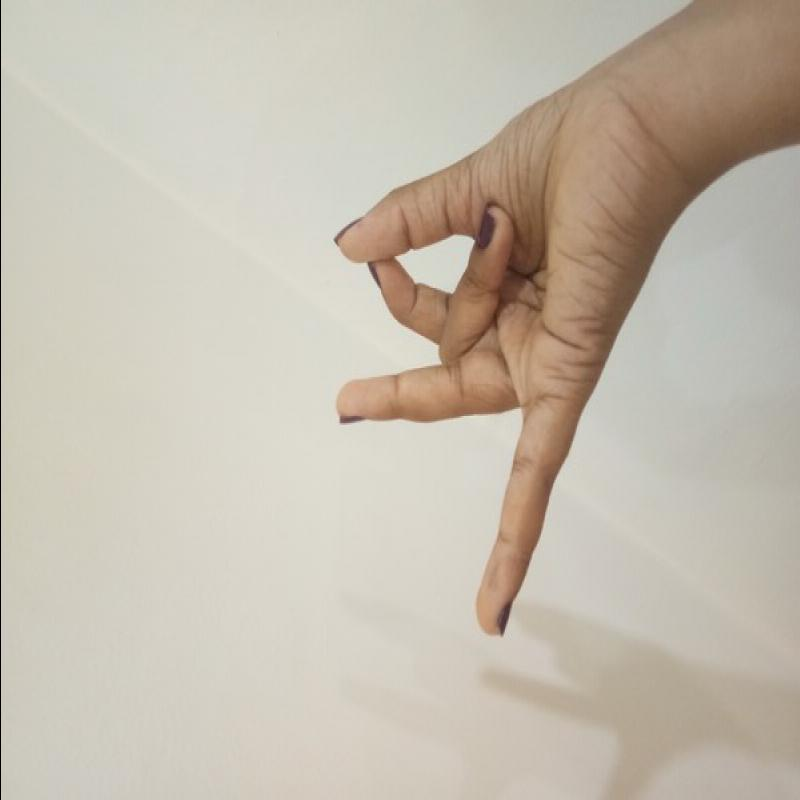Katakam: (275, 99, 713, 647)
